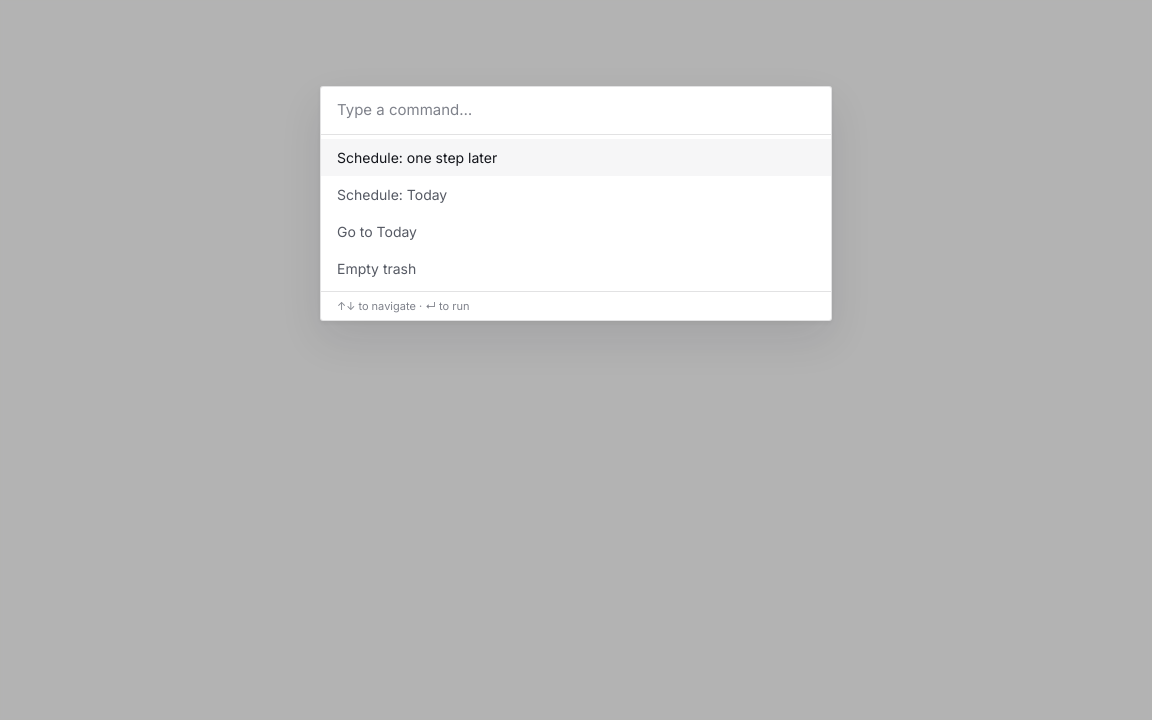
CommandPalette subsequence filter › requires tokens in order (subsequence, not just any-order AND)
In the field with placeholder "Type a command…": (576, 111) x1=321 y1=87 x2=831 y2=135, type "today sche"
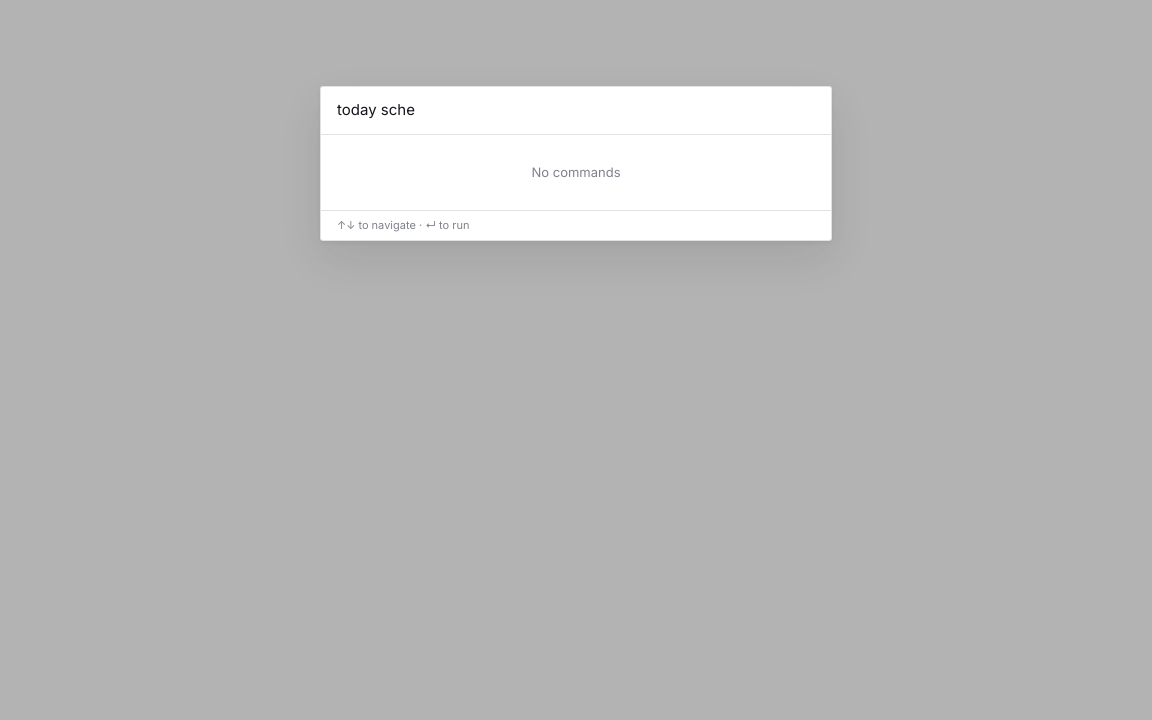
Check: the option "Schedule: Today" is gone
